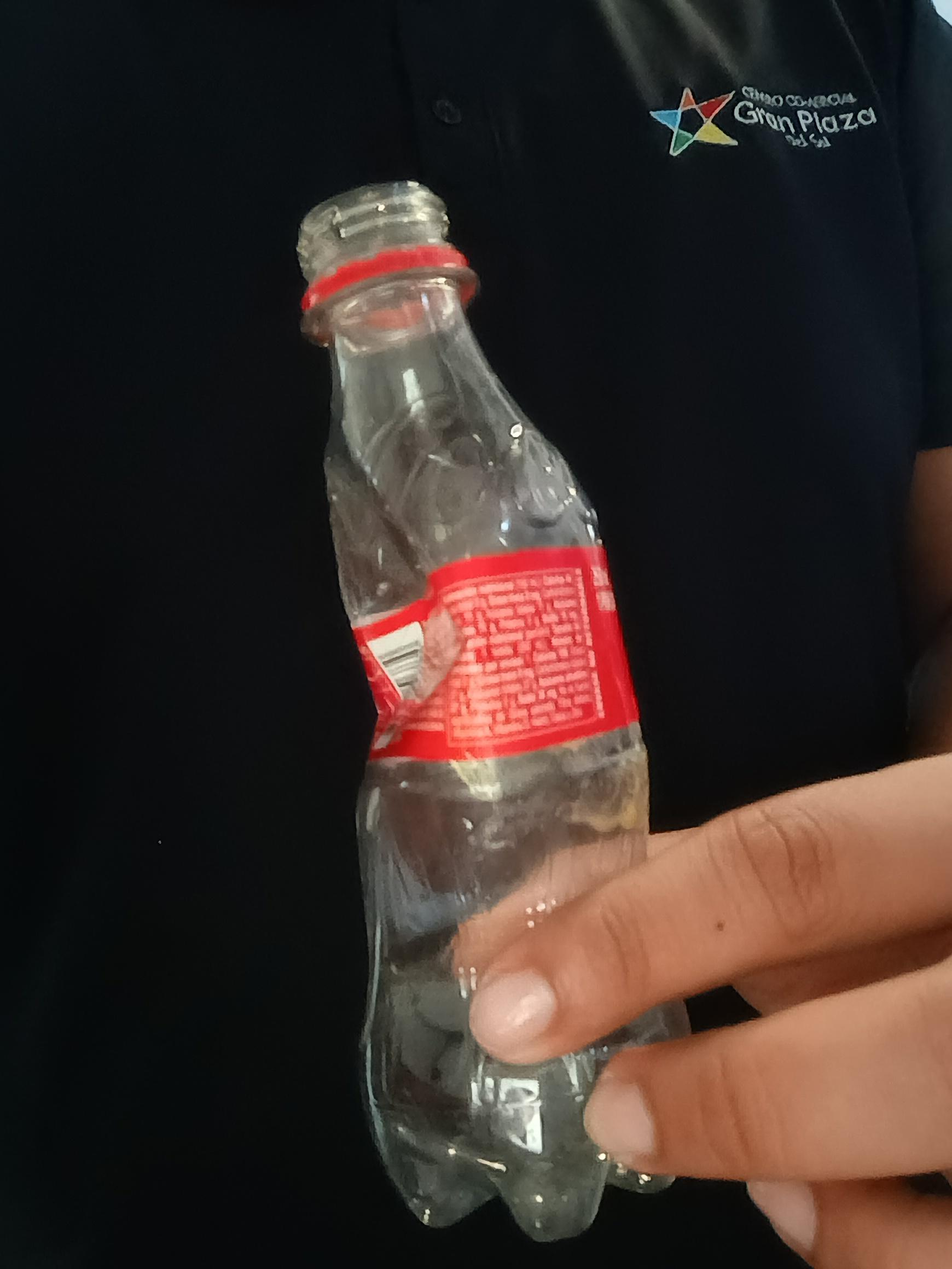Plastico: (296, 179, 682, 1239)
